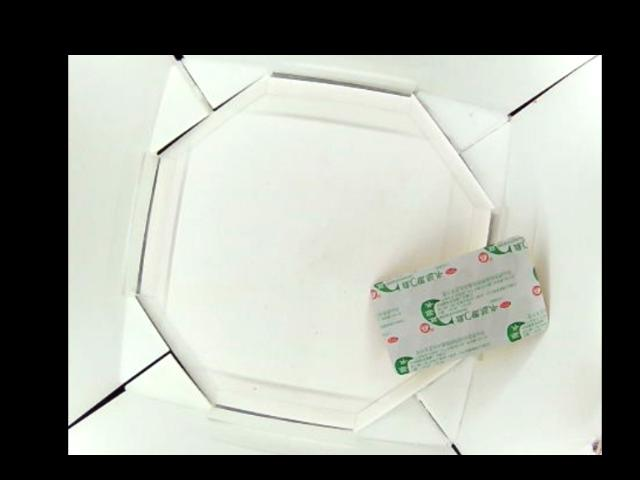Medicine: (370, 236, 548, 375)
